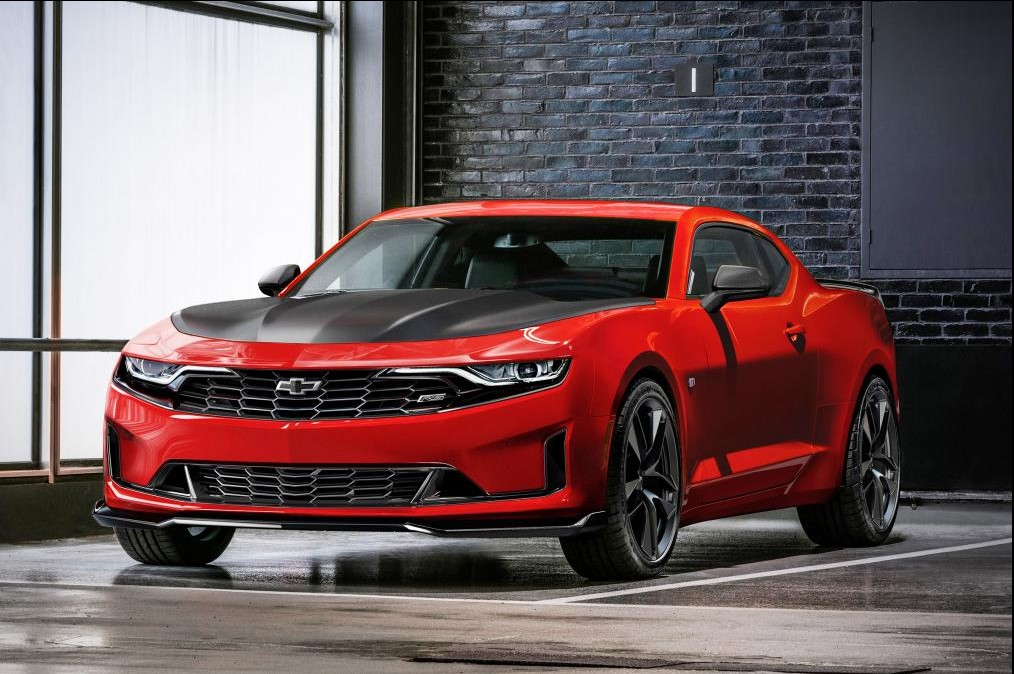sedan: (92, 194, 908, 579)
